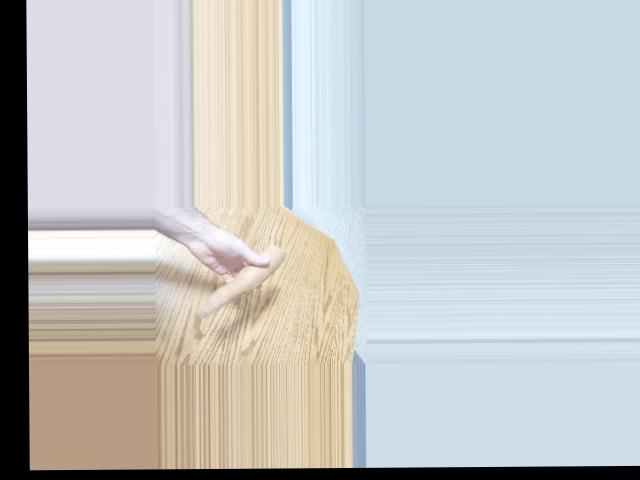sweet_potato: (197, 244, 278, 315)
